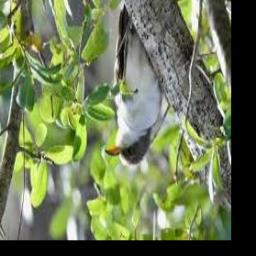Cuckoo: (105, 3, 162, 167)
